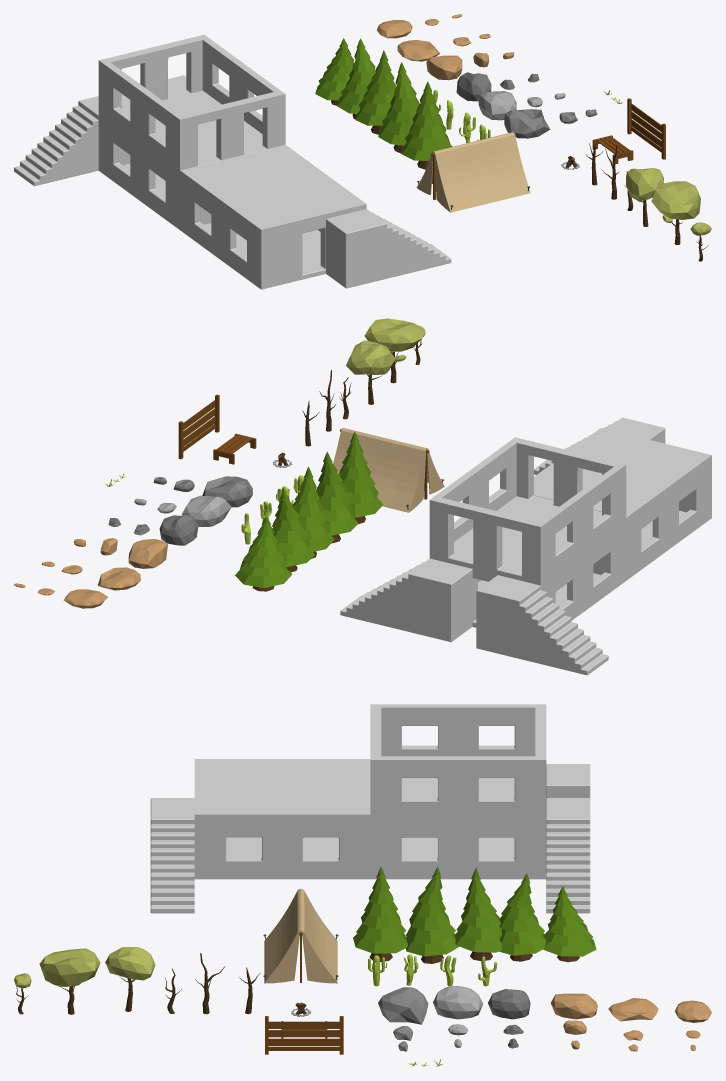
File: Test environ assets.fbx
The picture shows the model from 3 angles, top to bottom: view 1: azimuth 30°, elevation 25°; view 2: azimuth 150°, elevation 25°; view 3: azimuth 270°, elevation 25°; orthographic projection. The views are drawn at different scales.
Parts seen in each view (by area): view 1: Cube.286, Cube.289, Cube.004, Cube.002, Cube.014, Tree 002.002, Cube.005, Cube.013, Cube.294, Tree 001.002, Rock 001.001, Rock 003.001 (+5 smaller); view 2: Cube.286, Cube.289, Cube.013, Cube.004, Cube.002, Cube.005, Cube.014, Tree 002.002, Tree 001.002, Cube.294, Rock 001.001, Rock 003.001 (+5 smaller); view 3: Cube.286, Cube.289, Cube.002, Cube.004, Cube.014, Cube.005, Cube.294, Cube.013, Tree 002.002, Tree 001.002, Rock 001.001, Rock 003.001 (+4 smaller).
Boxes of the visible parts, box(x1,y1,x2,y2) form: Cube.286: box(14, 34, 451, 289); Cube.289: box(416, 132, 530, 212); Cube.004: box(402, 81, 452, 169); Cube.002: box(378, 62, 419, 153); Cube.014: box(355, 50, 396, 134); Tree 002.002: box(651, 181, 700, 244); Cube.005: box(337, 38, 376, 119); Cube.013: box(315, 38, 353, 105); Cube.294: box(627, 98, 665, 159); Tree 001.002: box(626, 168, 663, 226); Rock 001.001: box(504, 109, 550, 138); Rock 003.001: box(478, 91, 516, 120); Cube.286: box(340, 417, 711, 675); Cube.289: box(333, 428, 444, 512); Cube.013: box(235, 516, 292, 591); Cube.004: box(338, 431, 383, 524); Cube.002: box(316, 451, 358, 543); Cube.005: box(272, 490, 315, 572); Cube.014: box(293, 466, 334, 558); Tree 002.002: box(364, 318, 425, 383); Tree 001.002: box(346, 340, 395, 404); Cube.294: box(178, 394, 219, 459); Rock 001.001: box(202, 476, 252, 507); Rock 003.001: box(181, 495, 231, 526); Cube.286: box(150, 704, 590, 913); Cube.289: box(263, 888, 338, 983); Cube.002: box(405, 866, 459, 963); Cube.004: box(353, 867, 407, 961); Cube.014: box(454, 867, 501, 960); Cube.005: box(499, 873, 546, 961); Cube.294: box(265, 1016, 343, 1054); Cube.013: box(543, 886, 596, 962); Tree 002.002: box(39, 948, 100, 1014); Tree 001.002: box(105, 947, 155, 1011); Rock 001.001: box(378, 987, 428, 1024); Rock 003.001: box(433, 986, 483, 1019).
Bounding box in the file's own units: 5996 × 1226 × 6353.
